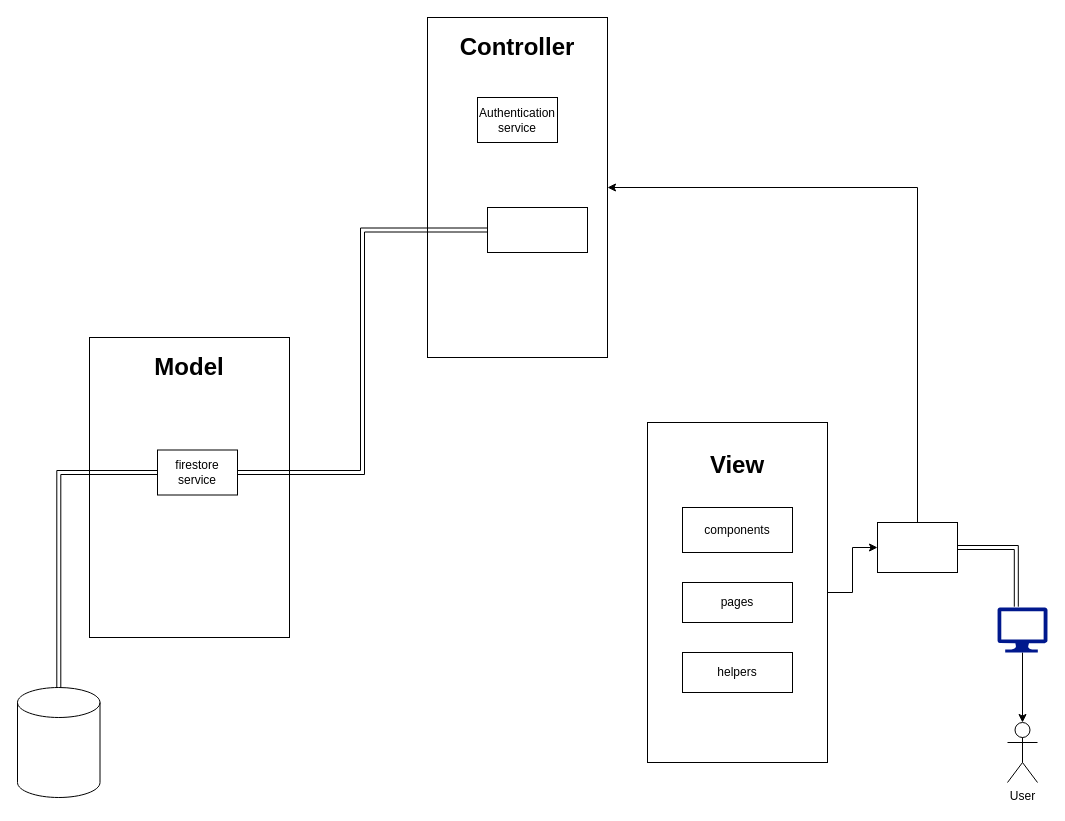
This 1065x821 diagram has some shape labels left out. The shapes that lost their labels are listed below. From the top down, each one's box as (x1, y1, x2, y2) in pixels, then its label:
(486, 206, 588, 252): services
(876, 522, 958, 572): router
(16, 686, 100, 798): Firestore
